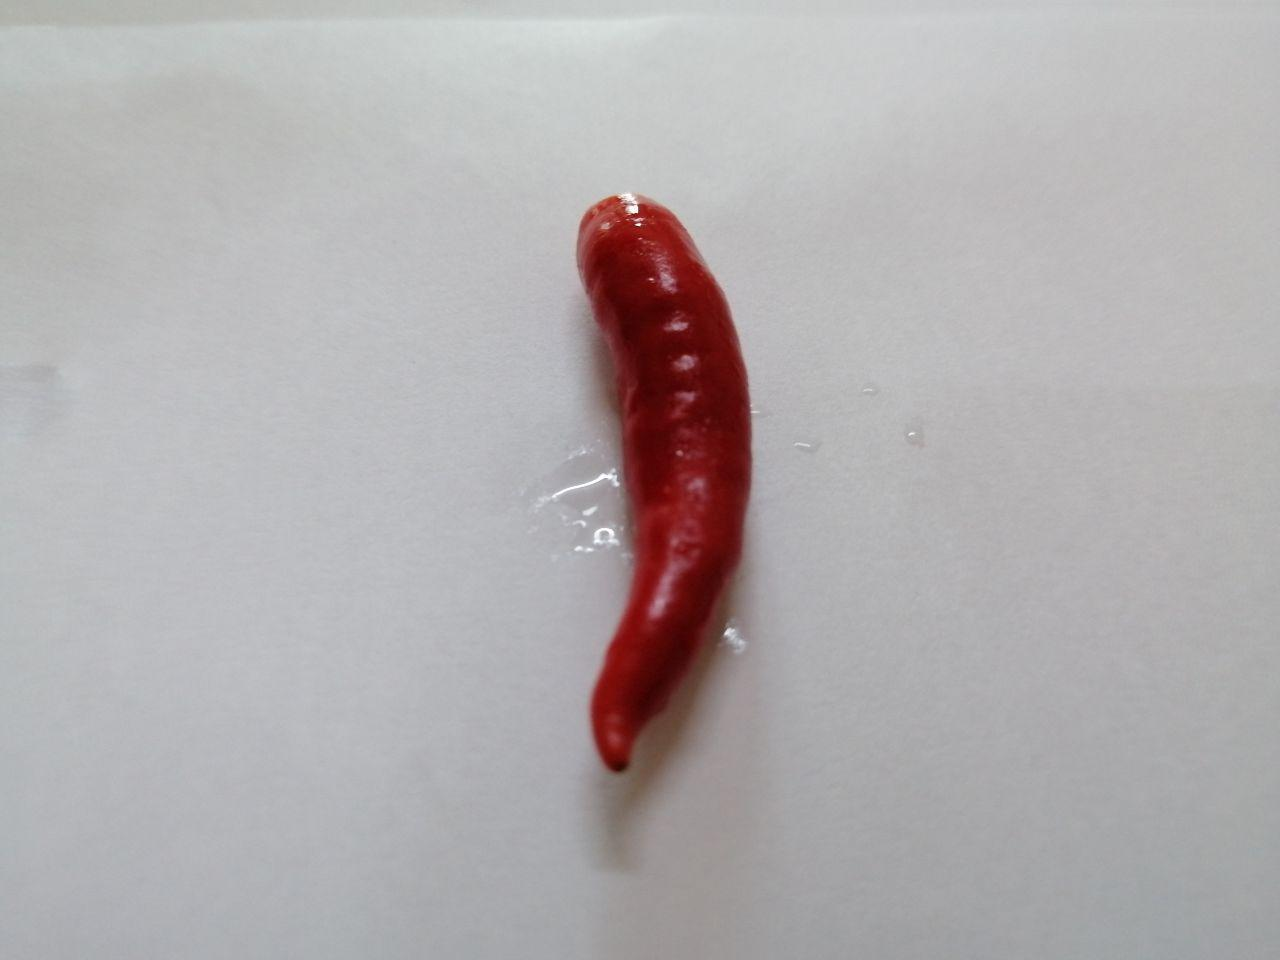lada merah: (513, 169, 780, 811)
